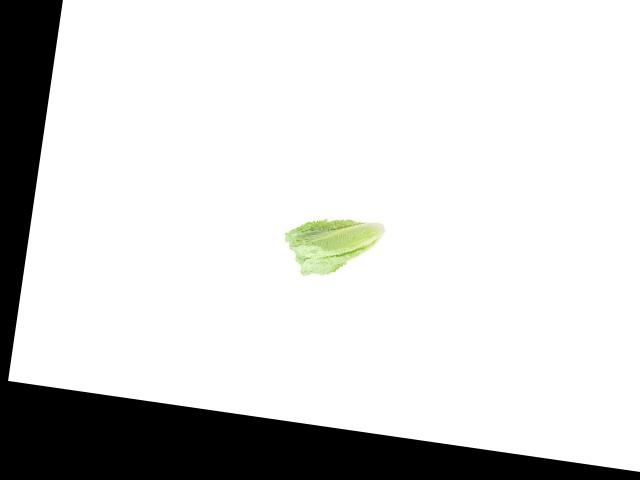lettuce: (279, 208, 395, 288)
